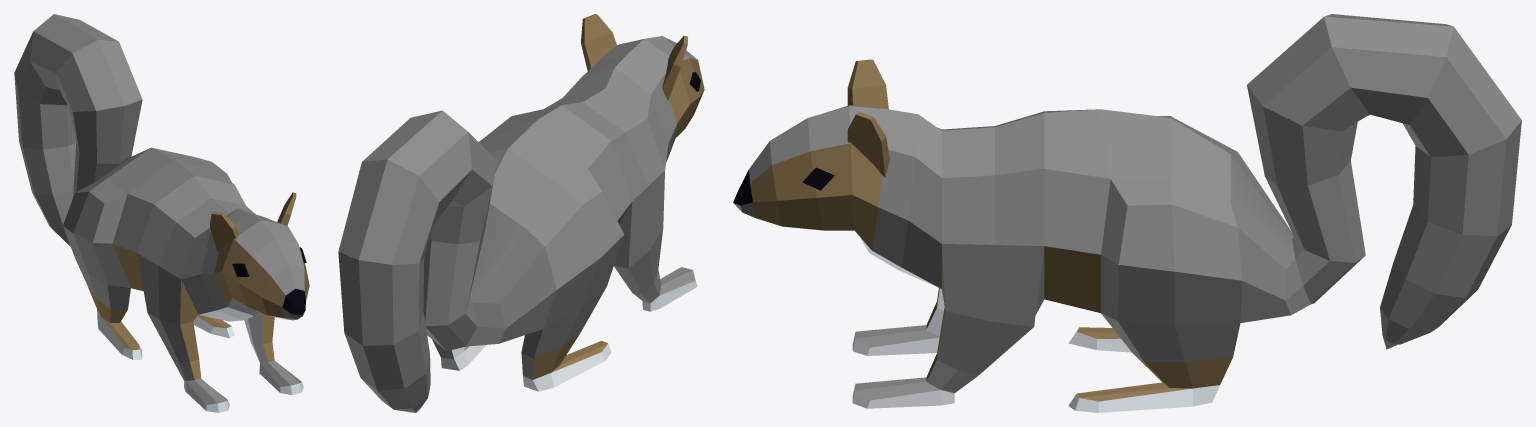
The model's file is risu.obj.
3 views of the same model, side by side, from view 1: azimuth 30°, elevation 25°; view 2: azimuth 150°, elevation 25°; view 3: azimuth 270°, elevation 25° (orthographic). The views are drawn at different scales.
Parts seen in each view (by area): view 1: node-0_buffer-0-mesh-0; view 2: node-0_buffer-0-mesh-0; view 3: node-0_buffer-0-mesh-0.
Part boxes in pixels (x1=…): node-0_buffer-0-mesh-0: x1=14, y1=14, x2=309, y2=412; node-0_buffer-0-mesh-0: x1=338, y1=14, x2=704, y2=412; node-0_buffer-0-mesh-0: x1=733, y1=14, x2=1521, y2=412.
Size of the model in its own units: 28.21 by 43.28 by 86.43.
Materials: 1 (1 with a texture image).
